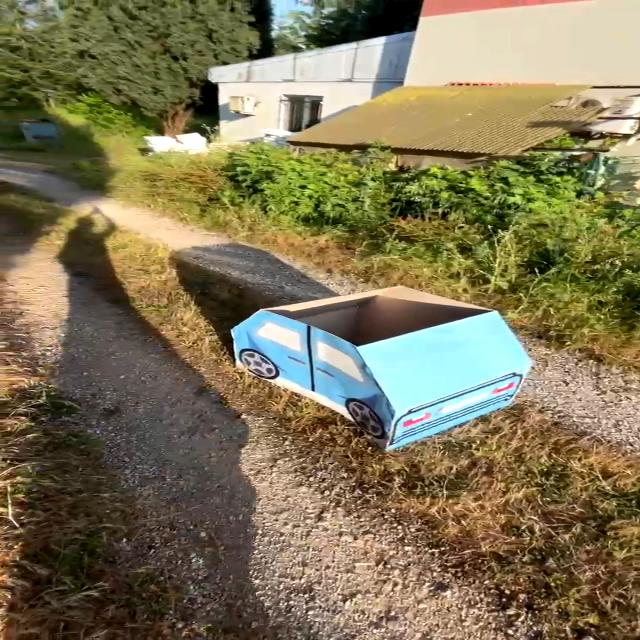blue_car: (174, 256, 574, 456)
